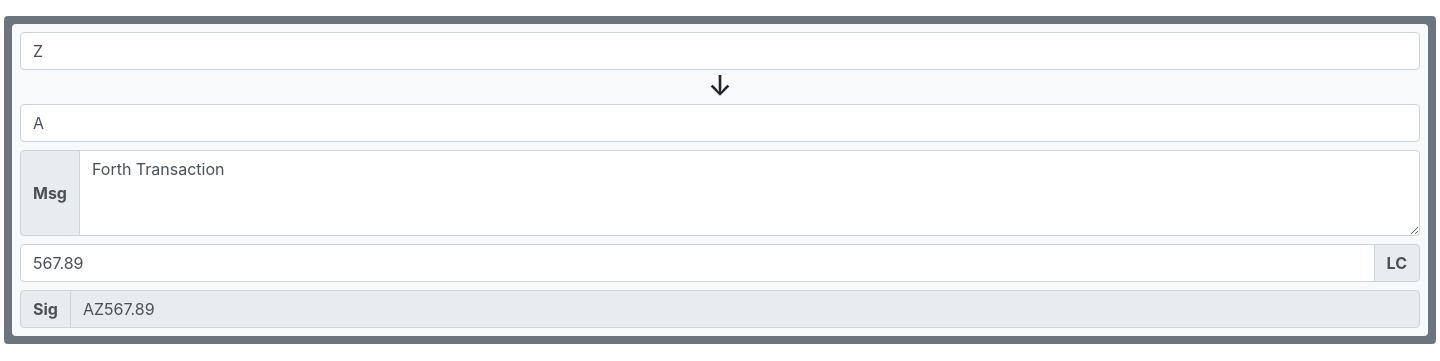
Test: last block › change of Message input attempts propagation
The image size is (1440, 361).
Type "1" into the text box named "Block Transactions Message". click: (750, 193)
box: [79, 150, 1420, 236]
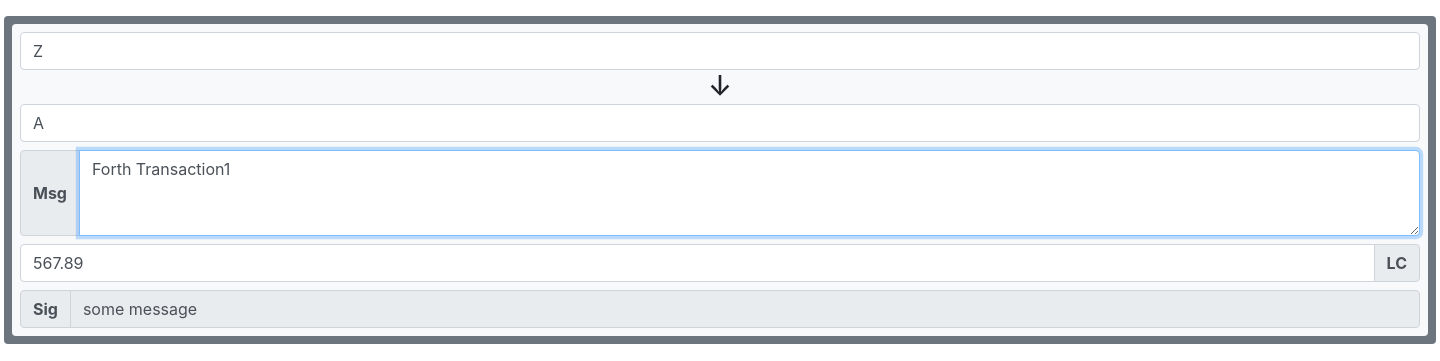
Result: the field named "Block Transactions Signature" holds "some message" at [70, 290, 1420, 328]
